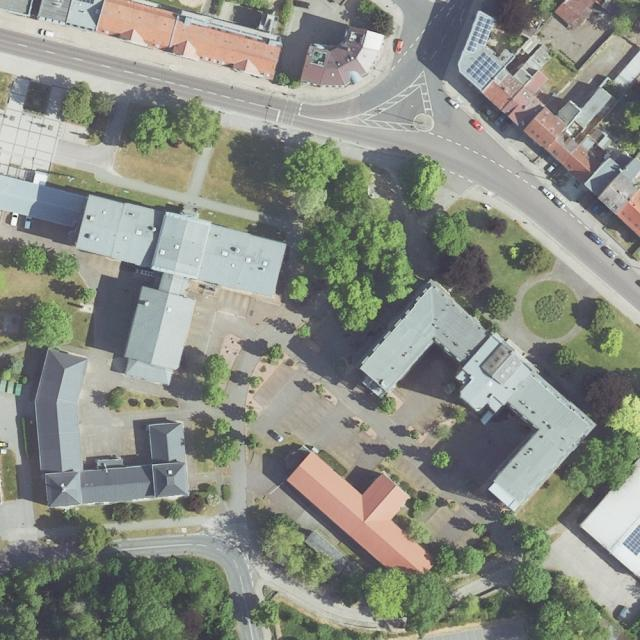PV: (467, 52, 499, 86), (467, 15, 492, 53), (622, 523, 640, 557)
